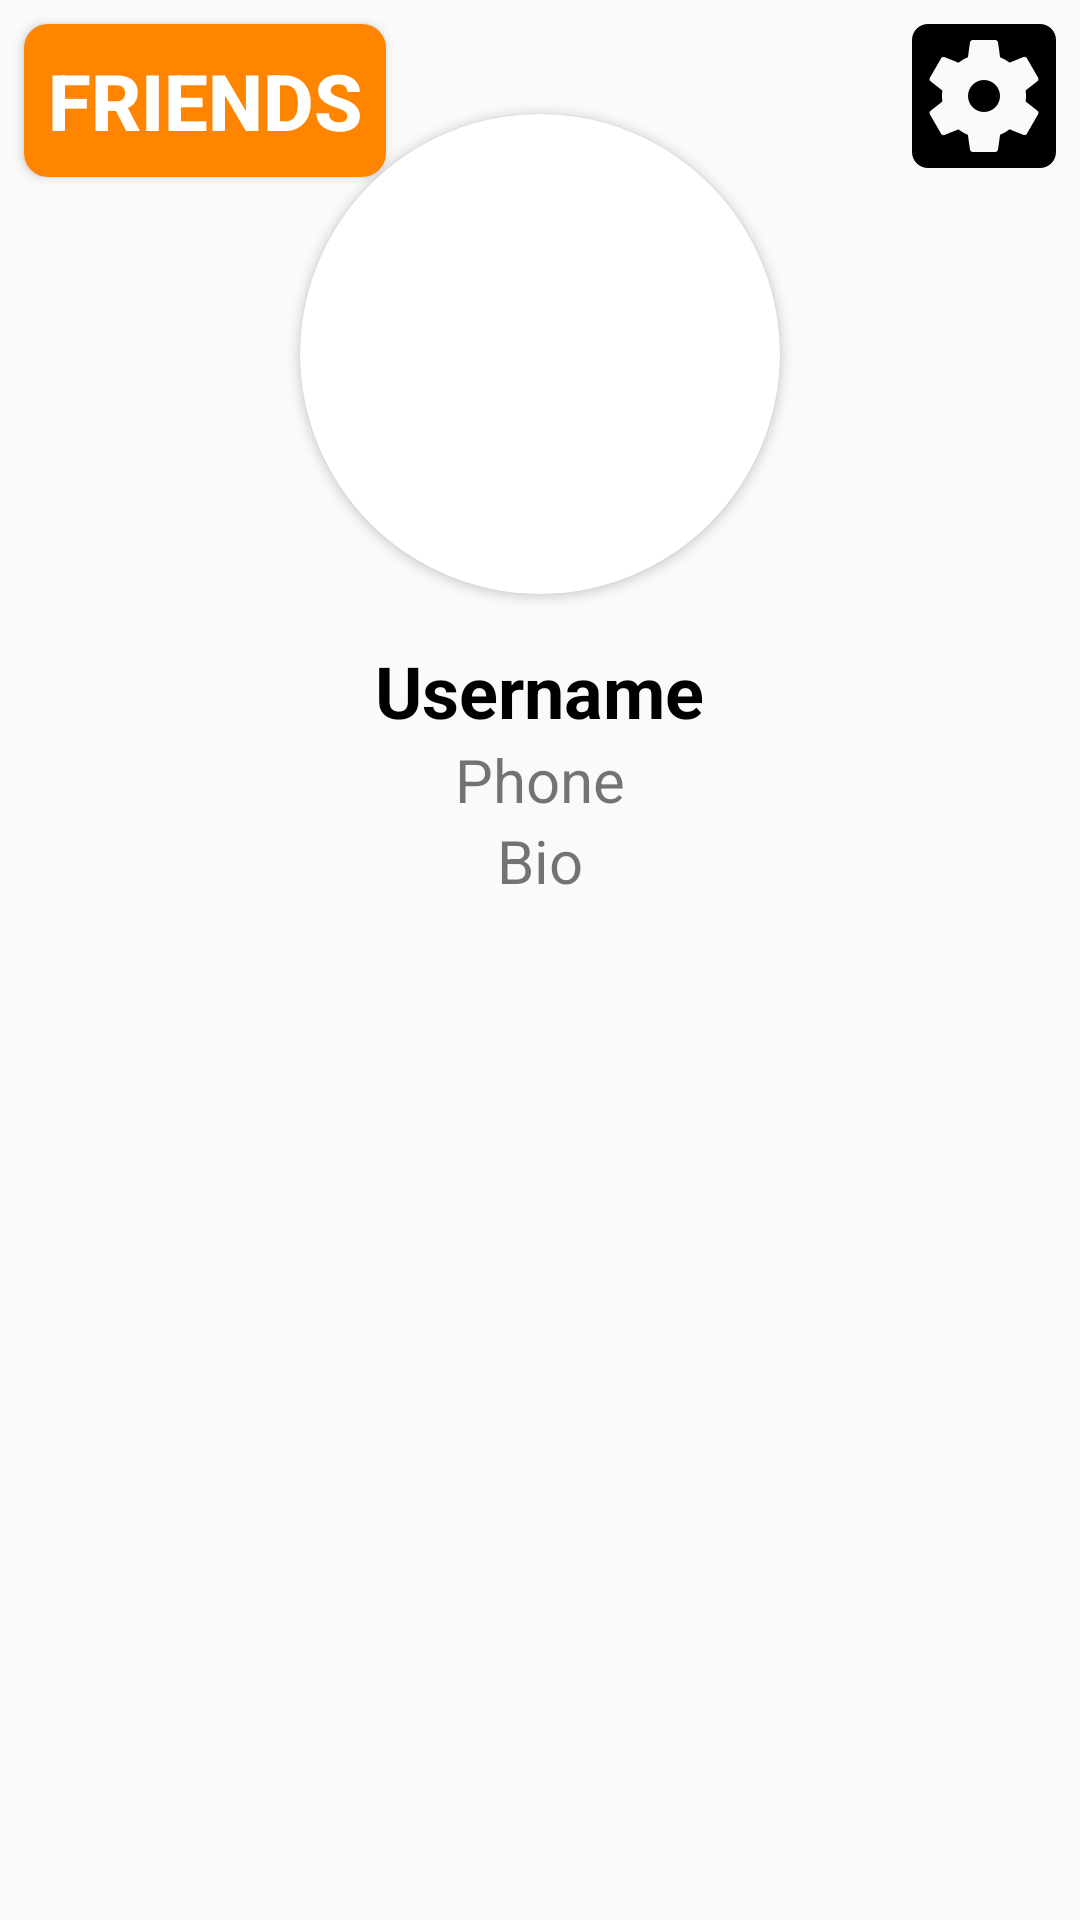

Locate icon controls on the screen. Image size 1080 × 1920, boxes as (x1, y1, x2, y2).
setting: (912, 24, 1056, 168)
